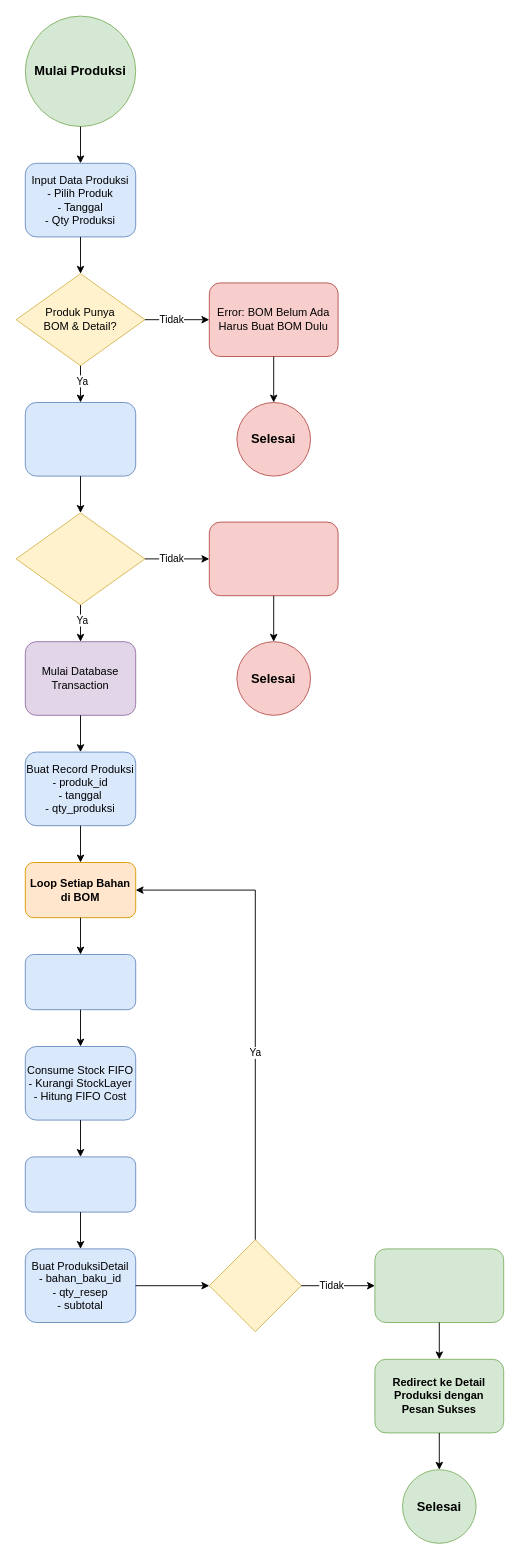
The diagram is 520 pixels wide and 1559 high, and some of its shapes have lost their labels. Each missing label, with the centre of its shape:
Ada Bahan Lagi?: [254,1285]
Ambil Data BOM & Detail Bahan Baku: [80,439]
Cek Stok Semua Bahan Cukup?: [80,558]
Error: Stok Tidak Cukup Tampilkan Bahan yang Kurang: [273,558]
Hitung Total Biaya - Total Bahan - BTKL 20% - BOP 10%: [439,1285]
Konversi Satuan Resep ke Satuan Base: [80,982]
Update Stok Bahan Baku Master: [80,1184]
